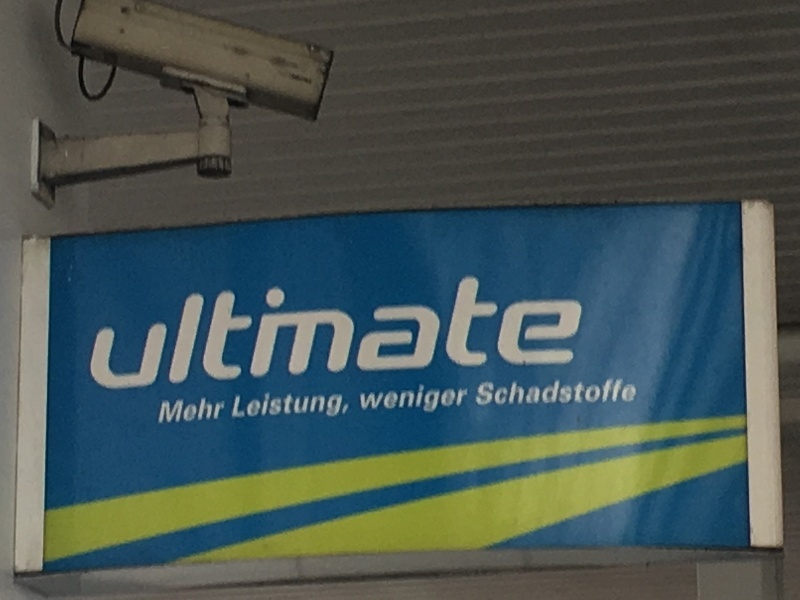text: (113, 271, 128, 394), (129, 271, 144, 394), (145, 271, 160, 394), (161, 271, 176, 394), (177, 271, 192, 394), (193, 271, 208, 394), (209, 271, 224, 394), (225, 271, 240, 394), (241, 271, 256, 394), (257, 271, 272, 394), (273, 271, 288, 394), (289, 271, 304, 394), (305, 271, 320, 394), (321, 271, 336, 394), (337, 271, 352, 394), (353, 271, 368, 394), (369, 271, 384, 394), (385, 271, 400, 394), (401, 271, 416, 394), (417, 271, 432, 394), (433, 271, 448, 394), (449, 271, 464, 394), (465, 271, 480, 394), (481, 271, 496, 394), (497, 271, 512, 394), (513, 271, 528, 394), (529, 271, 544, 394), (545, 271, 560, 394), (561, 271, 576, 394), (577, 271, 592, 394), (105, 271, 112, 394), (369, 381, 384, 416), (385, 381, 400, 416), (401, 381, 416, 416), (417, 381, 432, 416), (433, 381, 448, 416), (449, 381, 464, 416), (241, 388, 256, 422), (257, 388, 272, 422), (273, 388, 288, 422), (289, 388, 304, 422), (305, 388, 320, 422), (321, 388, 336, 422), (337, 388, 351, 422), (161, 396, 176, 425), (177, 396, 192, 425), (193, 396, 208, 425), (209, 396, 224, 425), (481, 378, 496, 406), (497, 378, 512, 406), (513, 378, 528, 406), (529, 378, 544, 406), (545, 378, 560, 406), (561, 378, 576, 406), (577, 378, 592, 406), (593, 378, 608, 406), (609, 378, 624, 406), (625, 378, 637, 406), (359, 381, 368, 416), (465, 381, 471, 416), (236, 388, 240, 422), (478, 378, 480, 406), (225, 396, 226, 425)
